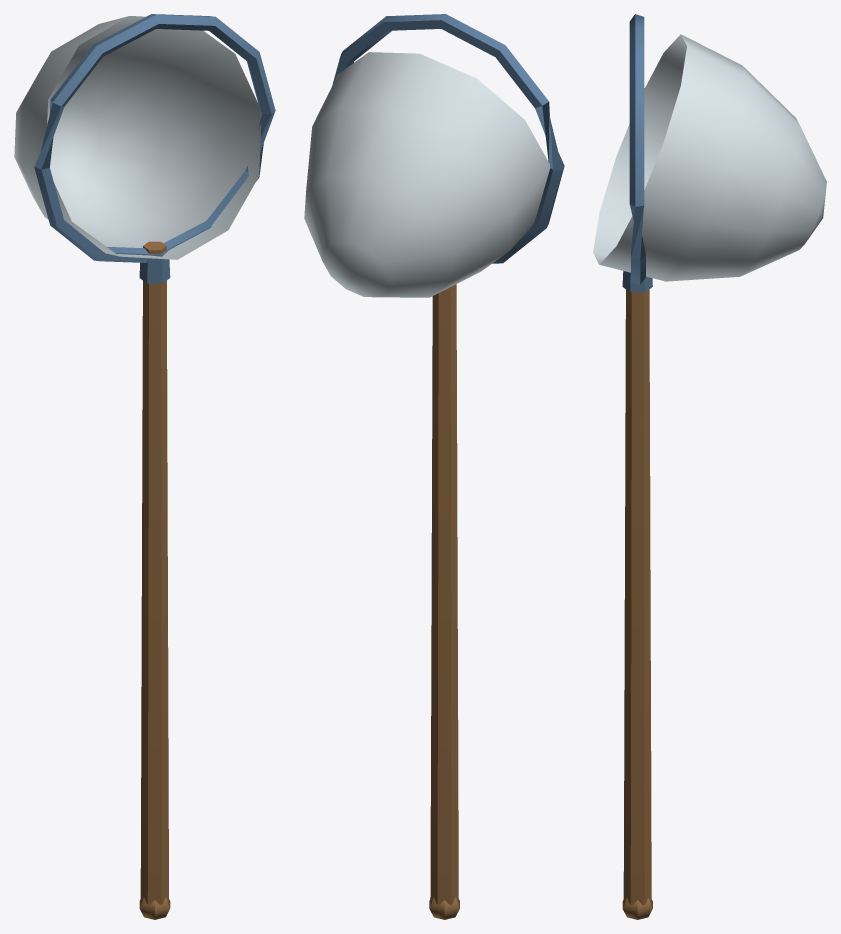
File: net-2.glb
The picture shows the model from 3 angles, left to right: view 1: azimuth 30°, elevation 25°; view 2: azimuth 150°, elevation 25°; view 3: azimuth 270°, elevation 25°; orthographic projection.
Parts seen in each view (by area): view 1: net-2; view 2: net-2; view 3: net-2.
Part boxes in pixels (left/top/right/bottom): net-2: left=14, top=14, right=275, bottom=919; net-2: left=304, top=14, right=564, bottom=919; net-2: left=593, top=14, right=826, bottom=919.
Size of the model in its own units: 0.2333 by 0.8447 by 0.2006.
